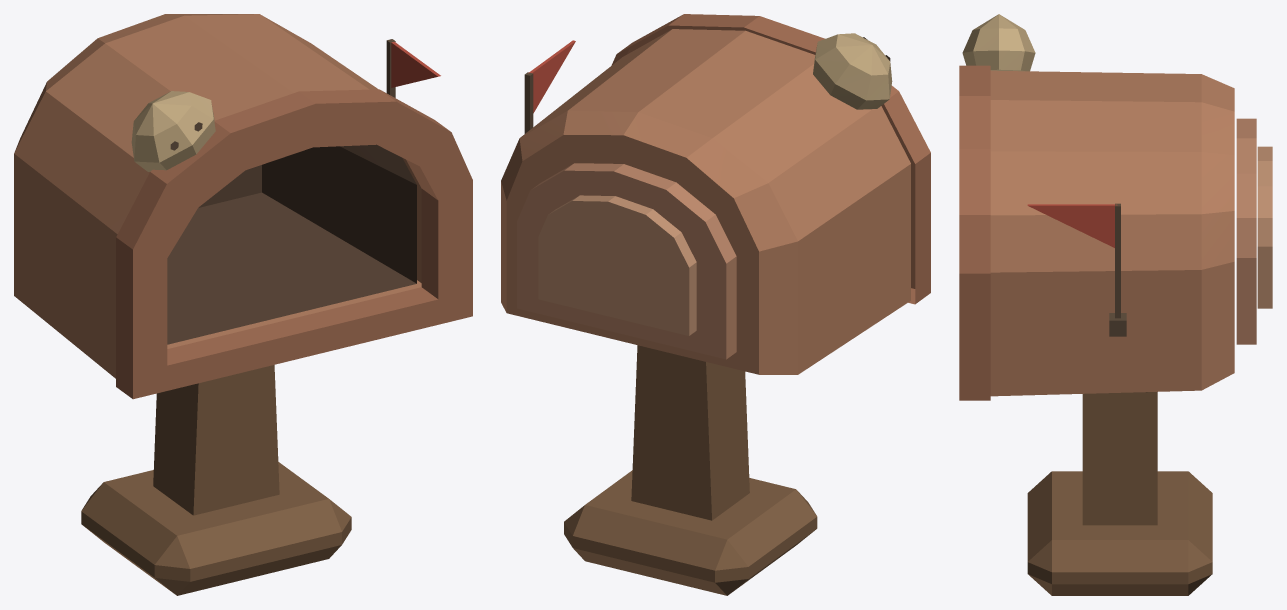
File: Toon_Mailbox.glb
3 views of the same model, side by side, from view 1: azimuth 30°, elevation 25°; view 2: azimuth 150°, elevation 25°; view 3: azimuth 270°, elevation 25° (orthographic). The views are drawn at different scales.
Parts seen in each view (by area): view 1: Toon_Mailbox; view 2: Toon_Mailbox; view 3: Toon_Mailbox.
Boxes of the visible parts, x1,y1,x2,y2 form: Toon_Mailbox: (14, 14, 472, 595); Toon_Mailbox: (501, 14, 930, 595); Toon_Mailbox: (959, 14, 1272, 595).
Bounding box in the file's own units: 0.857 × 1.23 × 0.711.
